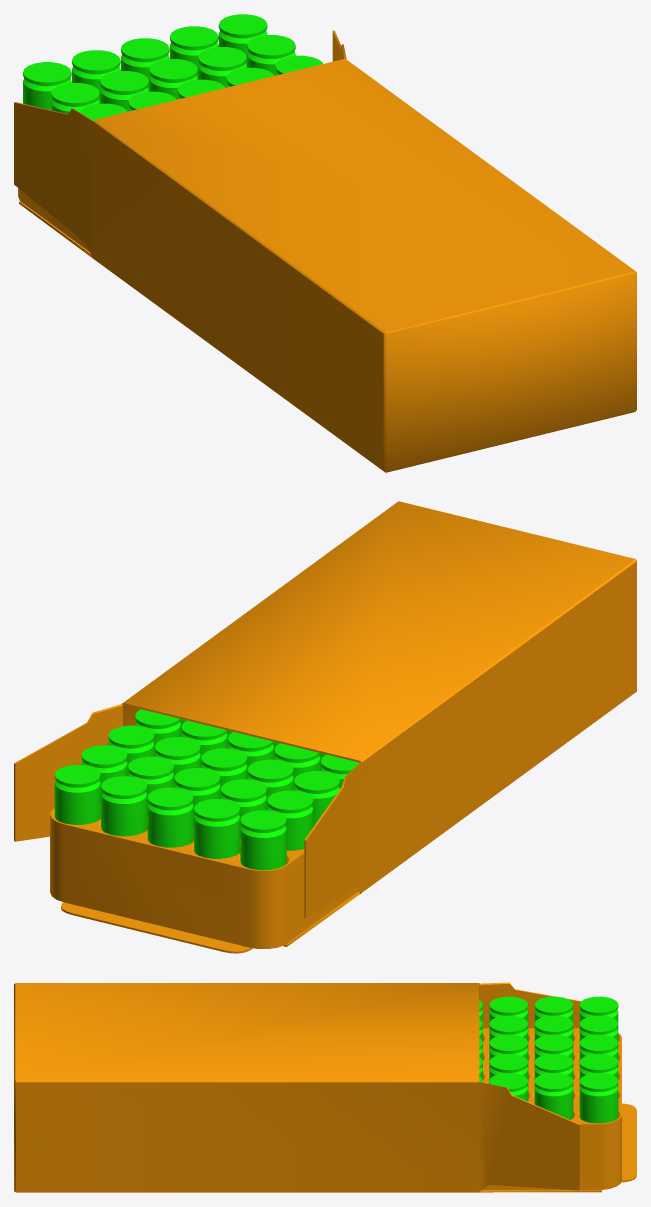
File: LP Ammo Case.fbx
3 renders of one model, top to bottom at view 1: azimuth 30°, elevation 25°; view 2: azimuth 150°, elevation 25°; view 3: azimuth 270°, elevation 25°, orthographic. The views are drawn at different scales.
Visible parts, largest first — view 1: LP Open Ammo Box, LP Bullet Shell, LP Bullet Shell040, LP Bullet Shell020, LP Bullet Shell010, LP Bullet Shell030, LP Bullet Shell011, LP Bullet Shell021, LP Bullet Shell041, LP Bullet Shell031, LP Bullet Shell001, LP Ammo Box Case; view 2: LP Open Ammo Box, LP Ammo Box Case, LP Bullet Shell020, LP Bullet Shell030, LP Bullet Shell, LP Bullet Shell040, LP Bullet Shell010, LP Bullet Shell001, LP Bullet Shell002, LP Bullet Shell041, LP Bullet Shell021, LP Bullet Shell022 (+9 smaller); view 3: LP Open Ammo Box, LP Ammo Box Case, LP Bullet Shell040, LP Bullet Shell041, LP Bullet Shell020, LP Bullet Shell021, LP Bullet Shell022, LP Bullet Shell002, LP Bullet Shell012, LP Bullet Shell, LP Bullet Shell001, LP Bullet Shell010 (+5 smaller).
Part boxes in pixels (x1,y1,x2,y2): LP Open Ammo Box: [14, 30, 636, 472]; LP Bullet Shell: [23, 62, 71, 109]; LP Bullet Shell040: [218, 14, 267, 67]; LP Bullet Shell020: [121, 38, 169, 91]; LP Bullet Shell010: [72, 50, 120, 103]; LP Bullet Shell030: [170, 26, 218, 79]; LP Bullet Shell011: [100, 71, 148, 111]; LP Bullet Shell021: [149, 59, 197, 99]; LP Bullet Shell041: [247, 35, 295, 75]; LP Bullet Shell031: [198, 47, 246, 87]; LP Bullet Shell001: [51, 83, 99, 113]; LP Ammo Box Case: [18, 188, 89, 251]; LP Open Ammo Box: [14, 501, 636, 953]; LP Ammo Box Case: [50, 805, 358, 948]; LP Bullet Shell020: [147, 787, 193, 847]; LP Bullet Shell030: [101, 776, 147, 836]; LP Bullet Shell: [240, 810, 286, 870]; LP Bullet Shell040: [54, 765, 100, 824]; LP Bullet Shell010: [194, 799, 239, 858]; LP Bullet Shell001: [267, 790, 313, 850]; LP Bullet Shell002: [294, 771, 339, 826]; LP Bullet Shell041: [81, 745, 127, 804]; LP Bullet Shell021: [174, 768, 220, 827]; LP Bullet Shell022: [201, 748, 247, 798]; LP Open Ammo Box: [14, 982, 636, 1192]; LP Ammo Box Case: [482, 1028, 621, 1189]; LP Bullet Shell040: [579, 1073, 618, 1123]; LP Bullet Shell041: [534, 1073, 573, 1119]; LP Bullet Shell020: [579, 1034, 618, 1068]; LP Bullet Shell021: [534, 1034, 573, 1068]; LP Bullet Shell022: [489, 1034, 528, 1068]; LP Bullet Shell002: [489, 996, 528, 1030]; LP Bullet Shell012: [489, 1015, 528, 1049]; LP Bullet Shell: [579, 996, 618, 1030]; LP Bullet Shell001: [534, 996, 573, 1030]; LP Bullet Shell010: [579, 1015, 618, 1049].
Bounding box in the file's own units: 212 × 90.46 × 456.
